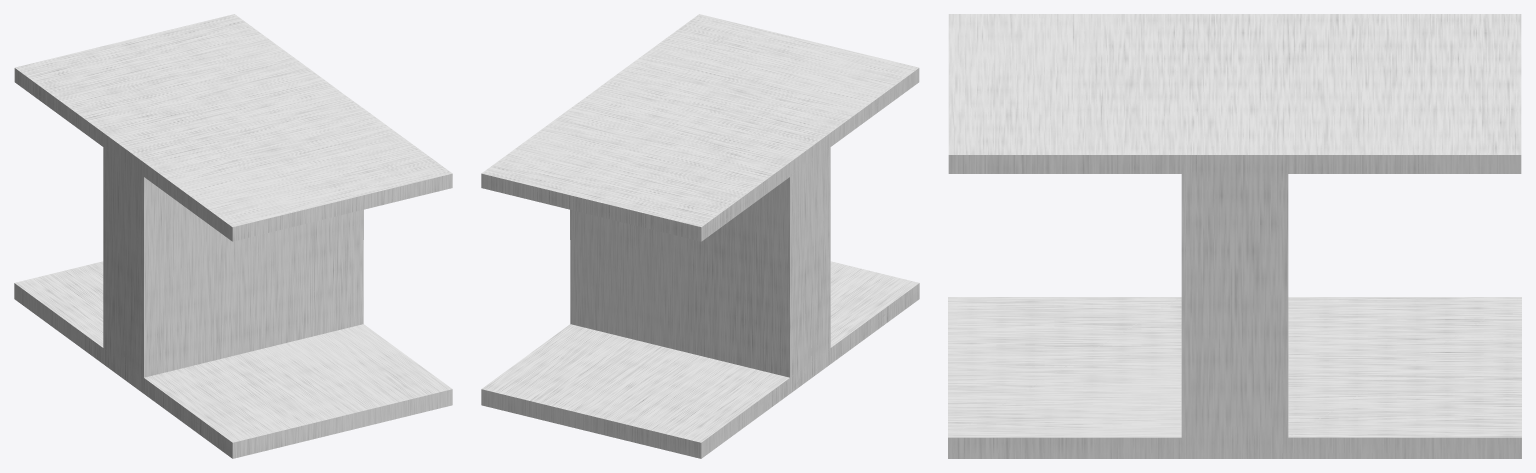
The model's file is shelf.glb.
3 renders of one model, left to right at view 1: azimuth 30°, elevation 25°; view 2: azimuth 150°, elevation 25°; view 3: azimuth 270°, elevation 25°, orthographic. The views are drawn at different scales.
Visible parts, largest first — view 1: Plane; view 2: Plane; view 3: Plane.
Part boxes in pixels (x1,y1,x2,y2): Plane: (14,14,452,458); Plane: (481,14,919,458); Plane: (948,14,1521,458).
Bounding box in the file's own units: 2.98 × 2.99 × 5.12.
1 material, 1 textured.
